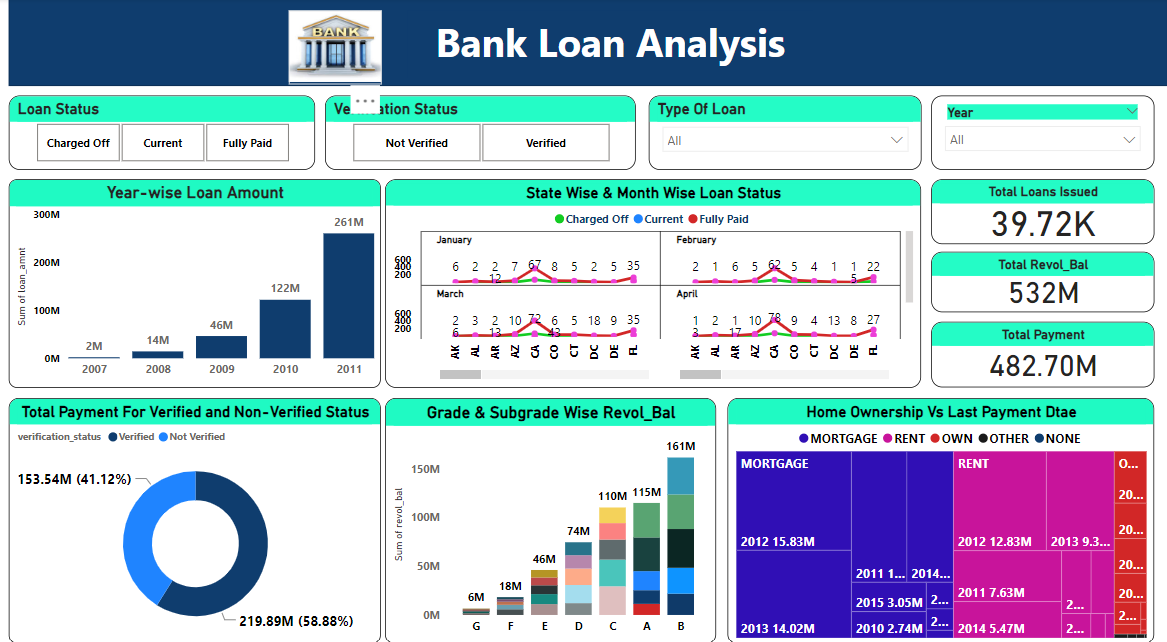

The page's visual inventory and layout, read from the dashboard file:
{"tool":"tableau","page":{"name":"Dashboard 1","canvas":[1500,800],"ordinal":0},"visuals":[{"type":"text","box":[138.4,6.4,1345.2,83.2]},{"type":"image","param":"D:/Excelr Data/Bank Analytics Project/Tableau/logo.jpg","box":[8.8,8,127.4,84.8]},{"type":"worksheet","title":"Kpi1","mark":"Bar","rows":["loan_amnt"],"cols":["issue_d"],"box":[248,94,611,295]},{"type":"worksheet","title":"Kpi2","mark":"Shape","rows":["revol_bal"],"cols":["grade"],"box":[863,94,619,290]},{"type":"worksheet","title":"Total","mark":"Automatic","box":[13,95,227,292]},{"type":"filter","title":"Kpi4","param":"[federated.0a98fyn0ofvjzg19s130t042gp0u].[none:addr_state:nk]","box":[713,410.3,224,100.6]},{"type":"filter","title":"Kpi4","param":"[federated.0a98fyn0ofvjzg19s130t042gp0u].[none:loan_status:nk]","box":[945,410.3,300,101.7]},{"type":"filter","title":"Kpi5","param":"[federated.0a98fyn0ofvjzg19s130t042gp0u].[yr:last_pymnt_d:ok]","box":[1251,410.3,232,101.7]},{"type":"filter","title":"Kpi2","param":"[federated.0a98fyn0ofvjzg19s130t042gp0u].[none:sub_grade:nk]","box":[13,411.4,381,99.4]},{"type":"filter","title":"Kpi2","param":"[federated.0a98fyn0ofvjzg19s130t042gp0u].[none:grade:nk]","box":[400,412.6,307,99.4]},{"type":"worksheet","title":"Kpi3","mark":"Pie","box":[596,517.3,410,269.9]},{"type":"worksheet","title":"Kpi4","mark":"Automatic","rows":["addr_state"],"cols":["issue_d"],"box":[8,518.4,584,268.8]},{"type":"worksheet","title":"Kpi5","mark":"Automatic","box":[1007,525.7,483,256]}]}

Visuals, with their boxes on the page's 1500x800 design canvas (x1, y1, x2, y2). These are canvas units, not pixel positions in the 1167x642 screenshot, which may show the page scaled, cropped or inside an application window:
text: bbox=[138, 6, 1484, 90]
image: bbox=[9, 8, 136, 93]
"Kpi1" worksheet (Bar marks): bbox=[248, 94, 859, 389]
"Kpi2" worksheet (Shape marks): bbox=[863, 94, 1482, 384]
"Total" worksheet: bbox=[13, 95, 240, 387]
"Kpi4" filter: bbox=[713, 410, 937, 511]
"Kpi4" filter: bbox=[945, 410, 1245, 512]
"Kpi5" filter: bbox=[1251, 410, 1483, 512]
"Kpi2" filter: bbox=[13, 411, 394, 511]
"Kpi2" filter: bbox=[400, 413, 707, 512]
"Kpi3" worksheet (Pie marks): bbox=[596, 517, 1006, 787]
"Kpi4" worksheet: bbox=[8, 518, 592, 787]
"Kpi5" worksheet: bbox=[1007, 526, 1490, 782]
